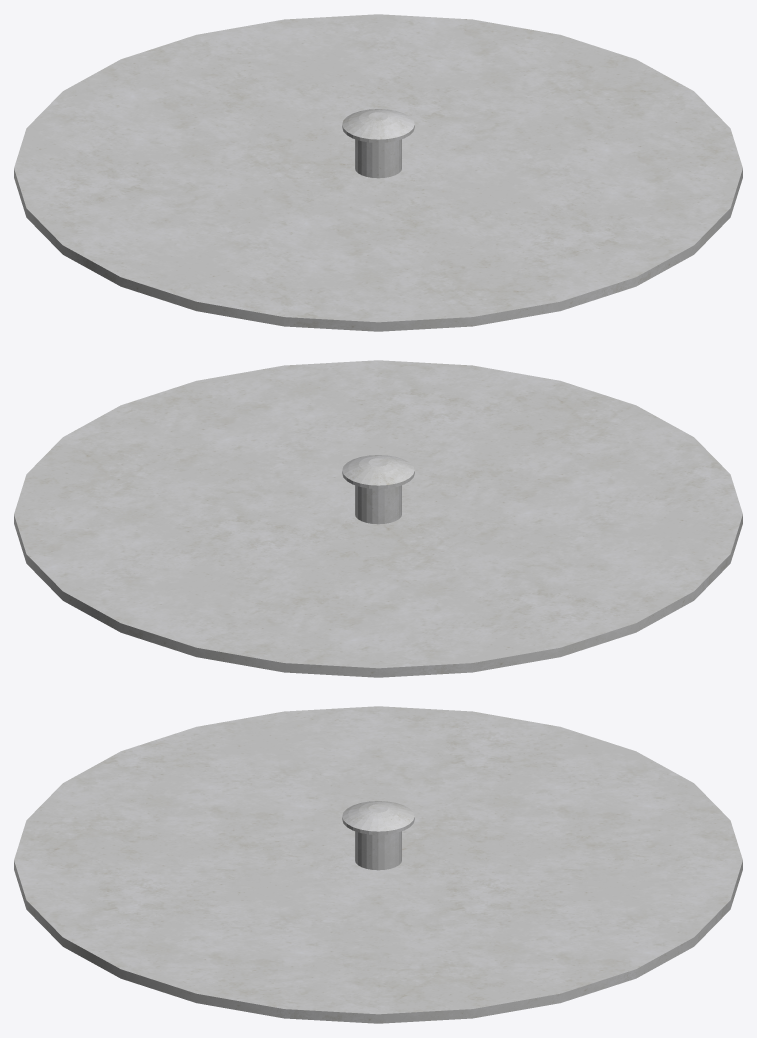
Rendered from SM_数显恒温水浴锅_盖子.fbx.
The picture shows the model from 3 angles, top to bottom: view 1: azimuth 30°, elevation 25°; view 2: azimuth 150°, elevation 25°; view 3: azimuth 270°, elevation 25°; orthographic projection.
Parts seen in each view (by area): view 1: SM_数显恒温水浴锅_盖子; view 2: SM_数显恒温水浴锅_盖子; view 3: SM_数显恒温水浴锅_盖子.
Part boxes in pixels (<box>): SM_数显恒温水浴锅_盖子: <box>14,14,742,331</box>; SM_数显恒温水浴锅_盖子: <box>14,360,742,677</box>; SM_数显恒温水浴锅_盖子: <box>14,706,742,1023</box>.
Size of the model in its own units: 0.21 by 0.0195 by 0.21.
